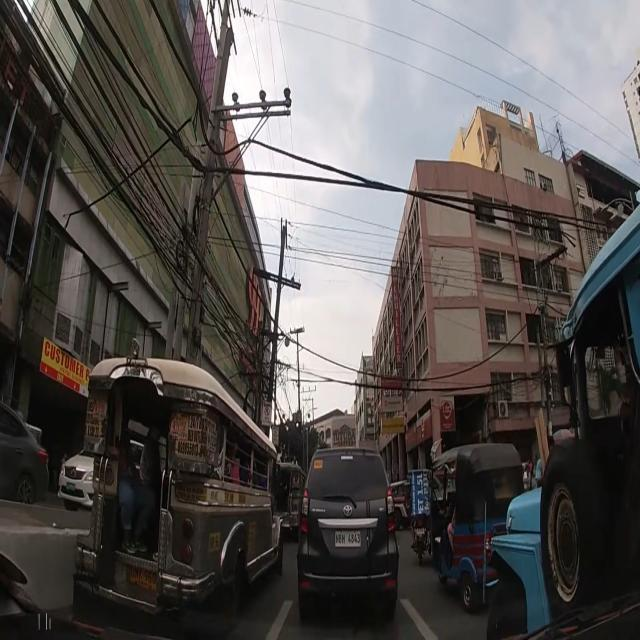car: (298, 446, 401, 622), (59, 430, 96, 512)
jeepney: (485, 198, 639, 640), (72, 336, 284, 636), (276, 461, 306, 542)
tricycle: (428, 444, 525, 607), (408, 466, 431, 562)
